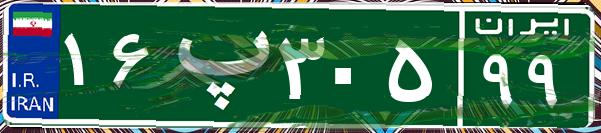0: (330, 28, 385, 110)
1: (57, 26, 110, 107)
3: (273, 28, 330, 110)
5: (385, 28, 445, 110)
6: (110, 28, 158, 105)
9: (475, 38, 525, 113), (525, 38, 570, 115)
پ: (158, 15, 273, 115)
